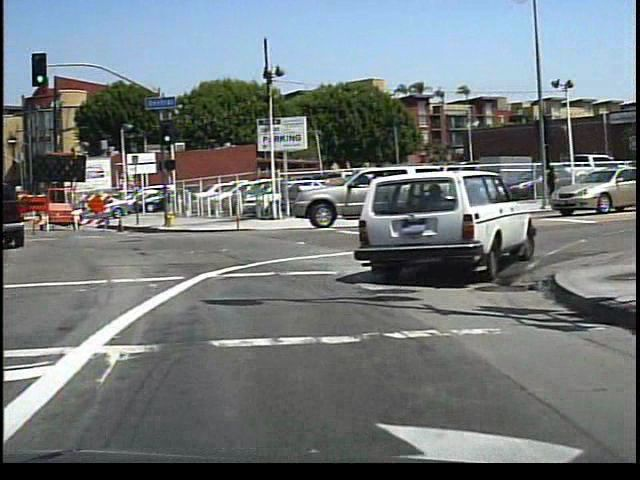person: (541, 162, 560, 206)
